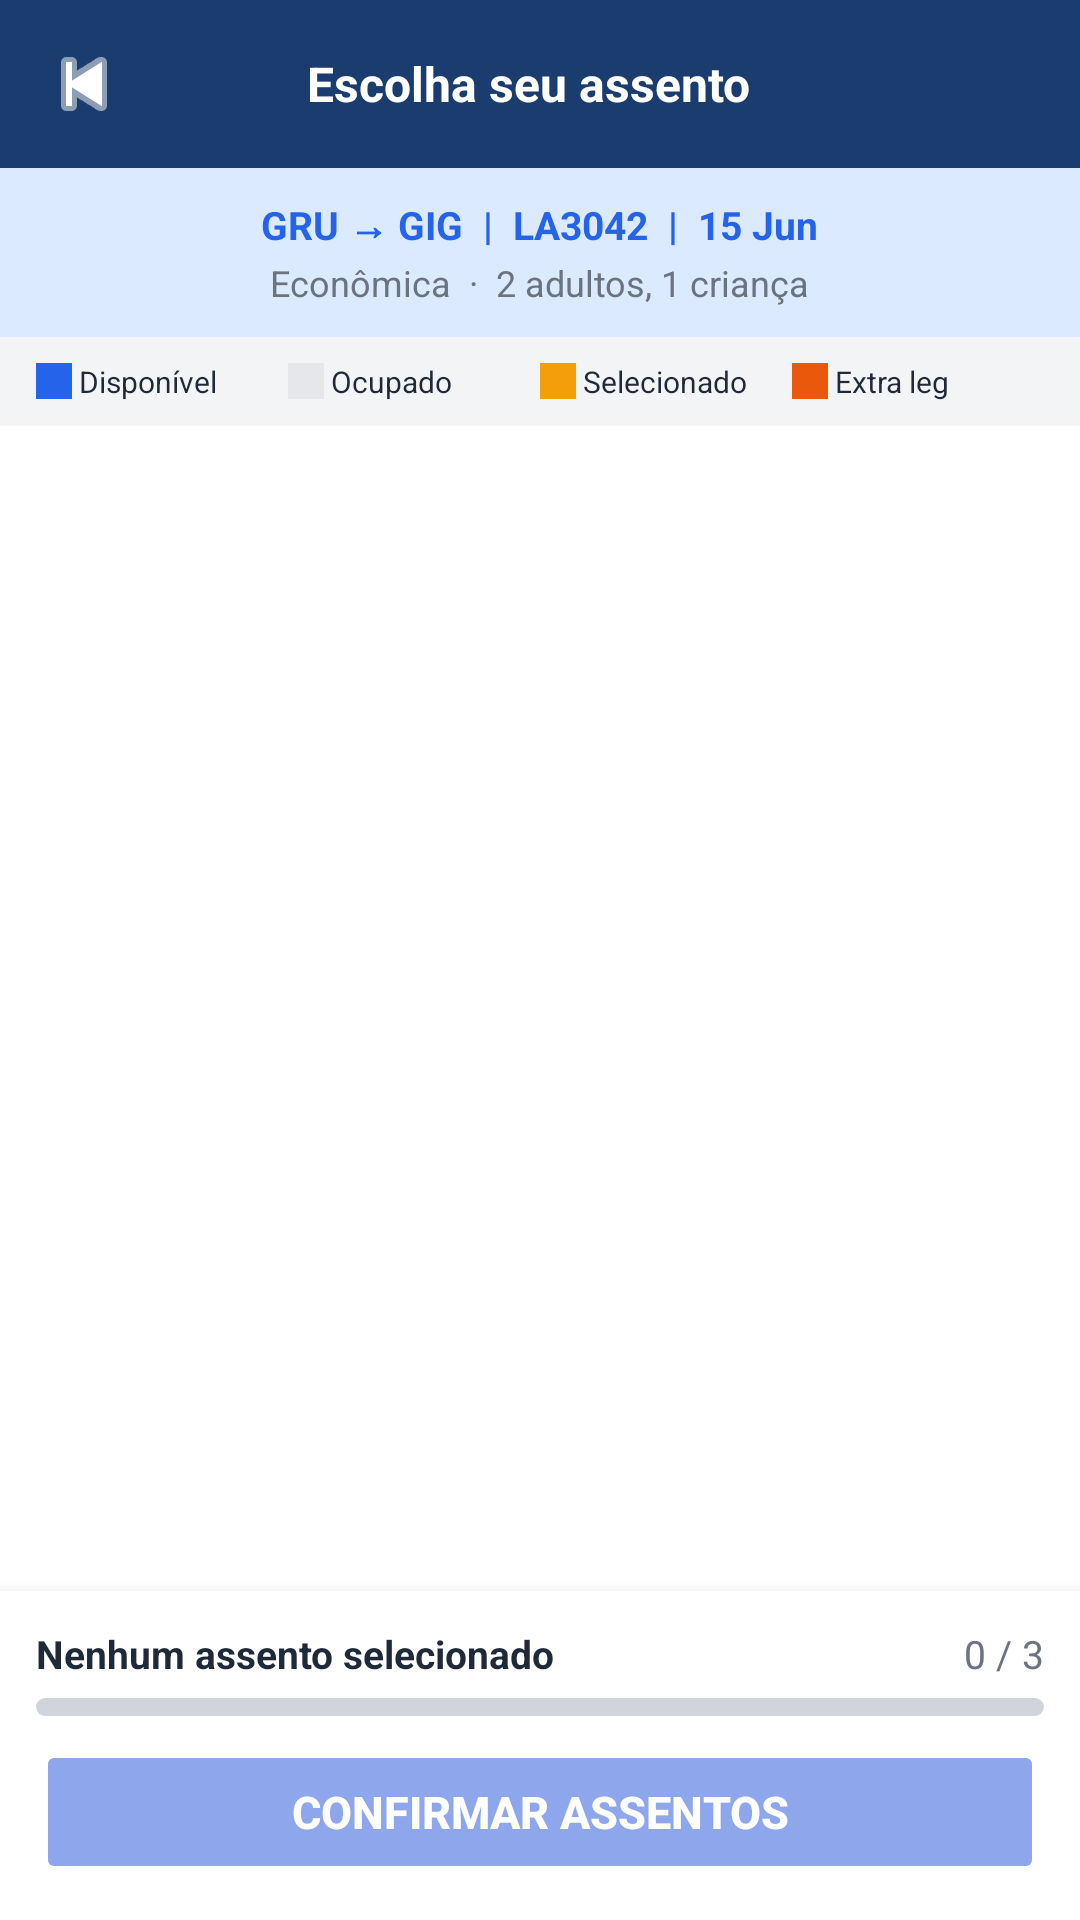

Screen size 1080*1920. Icon name, then its box in pixels as (x1, y1, x2, y2):
Voltar: (61, 57, 107, 111)
